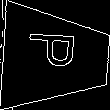P_E: (27, 38, 85, 77)
